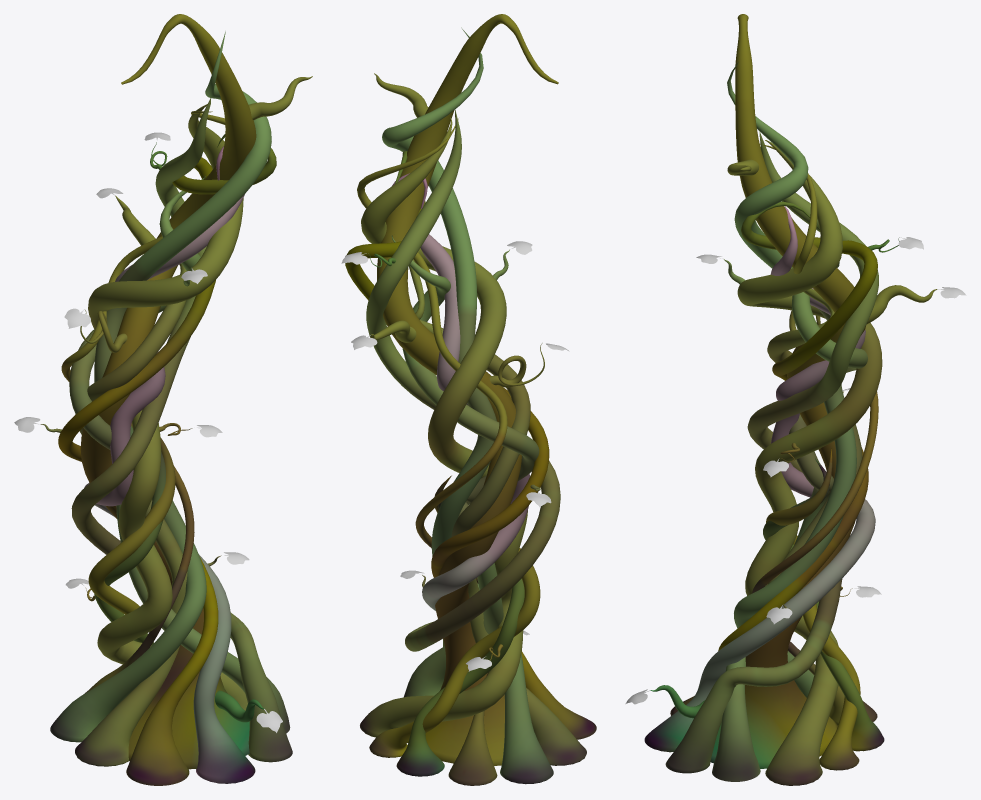
Rendered from Beanstalk.fbx.
3 renders of one model, left to right at view 1: azimuth 30°, elevation 25°; view 2: azimuth 150°, elevation 25°; view 3: azimuth 270°, elevation 25°, orthographic.
Parts seen in each view (by area): view 1: loftedSurface5; view 2: loftedSurface5; view 3: loftedSurface5.
Part boxes in pixels (x1=…): loftedSurface5: x1=14, y1=14, x2=312, y2=785; loftedSurface5: x1=341, y1=14, x2=596, y2=785; loftedSurface5: x1=625, y1=14, x2=966, y2=785.
Size of the model in its own units: 756 by 2235 by 958.
